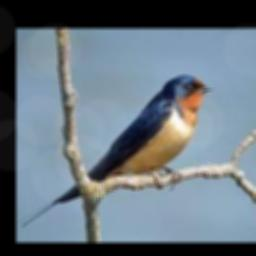Swallow: (19, 74, 213, 226)
